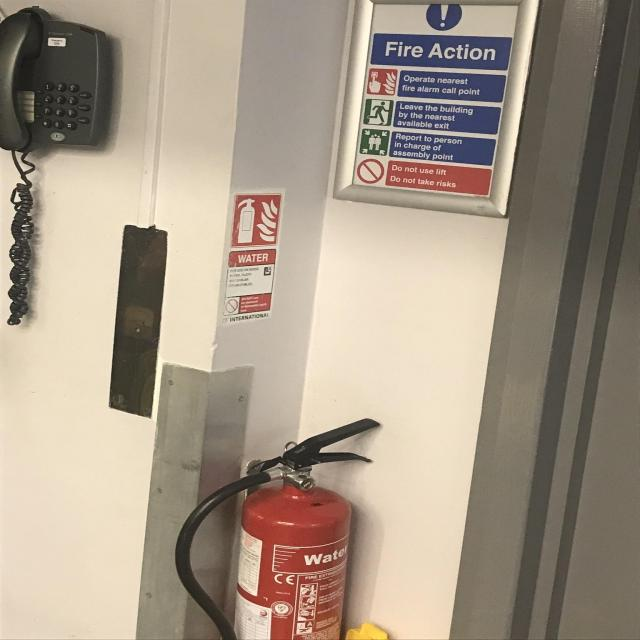fire_extinguisher: (170, 414, 383, 640)
